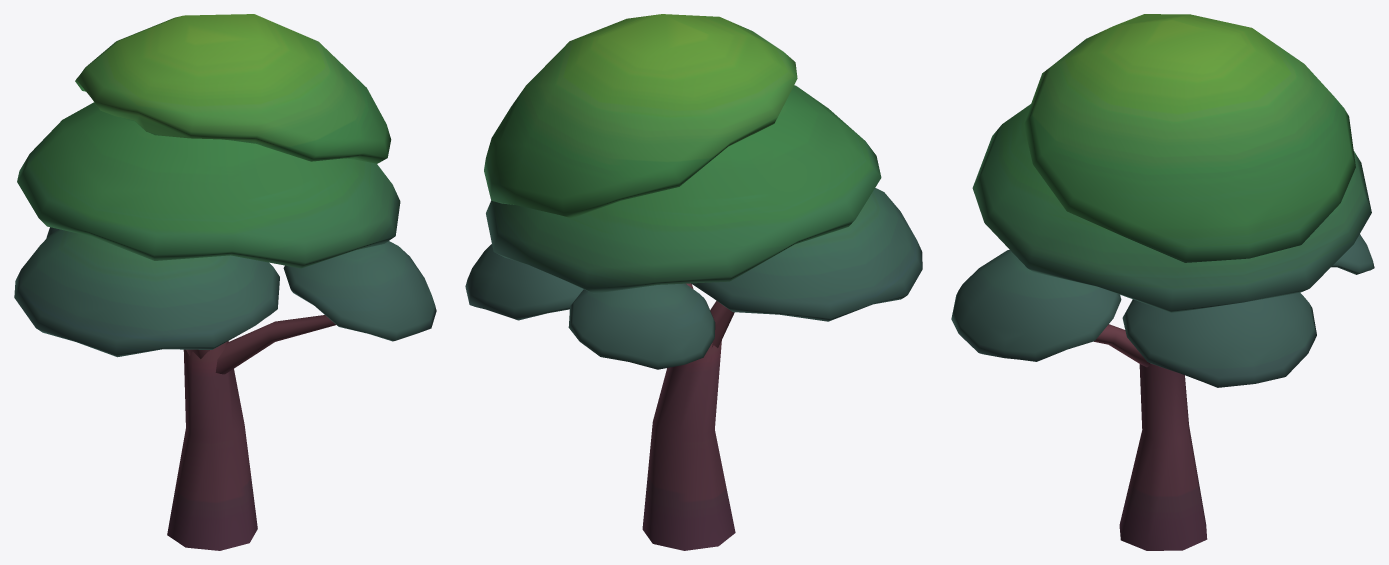
The model's file is Tree_14.fbx.
3 renders of one model, left to right at view 1: azimuth 30°, elevation 25°; view 2: azimuth 150°, elevation 25°; view 3: azimuth 270°, elevation 25°, orthographic.
Parts seen in each view (by area): view 1: Tree_14; view 2: Tree_14; view 3: Tree_14.
Part boxes in pixels (x1,y1,x2,y2): Tree_14: [14, 14, 436, 550]; Tree_14: [465, 14, 922, 550]; Tree_14: [951, 14, 1374, 550].
Bounding box in the file's own units: 320 × 404 × 307.
